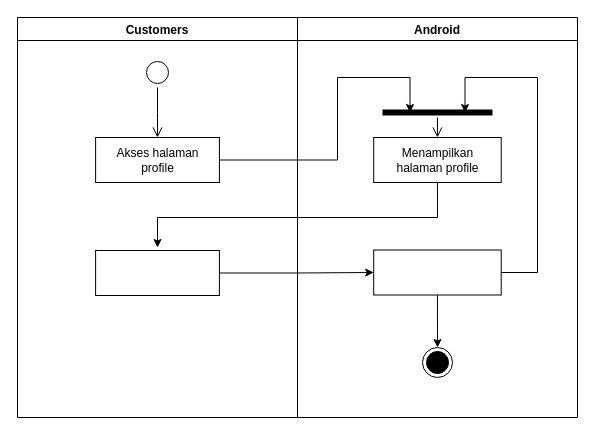
The diagram is 595 pixels wide and 435 high, and some of its shapes have lost their labels. The shapes that lost their labels are listed below. From the top down, each one's centre as x and y in pixels, then its label:
the point at 157,273: Ubah profile data
the point at 437,272: Menyimpan perubahan
